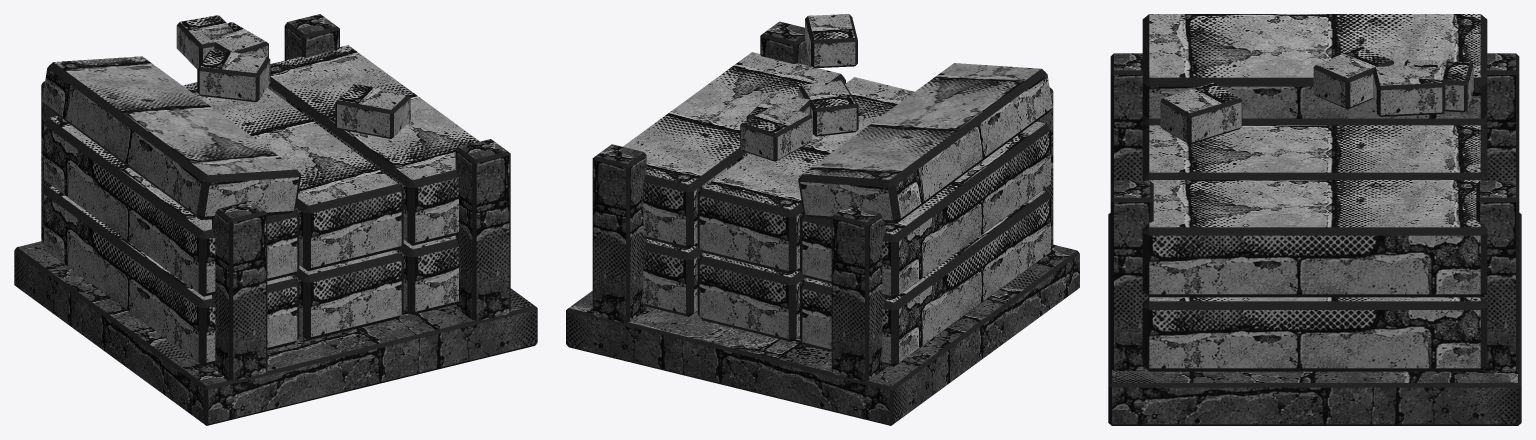
Rendered from wall_damaged.glb.
The picture shows the model from 3 angles, left to right: view 1: azimuth 30°, elevation 25°; view 2: azimuth 150°, elevation 25°; view 3: azimuth 270°, elevation 25°; orthographic projection. The views are drawn at different scales.
Visible parts, largest first — view 1: Plinth.001, Masonry course.015, Masonry course.013, Masonry course.014, Masonry course.012, Masonry course.009, Buttress.005, Buttress.004, Masonry course.010, Masonry course.011, Broken stone.002, Broken stone.003 (+4 smaller); view 2: Plinth.001, Masonry course.015, Masonry course.014, Masonry course.012, Masonry course.009, Masonry course.013, Buttress.007, Buttress.006, Masonry course.010, Masonry course.011, Broken stone, Broken stone.002 (+4 smaller); view 3: Masonry course.014, Masonry course.015, Masonry course.011, Plinth.001, Masonry course.013, Buttress.005, Buttress.007, Buttress.004, Buttress.006, Broken stone.002, Broken stone.001, Broken stone.003 (+2 smaller).
Boxes of the visible parts, bbox=[...] form: Plinth.001: bbox=[14, 241, 537, 425]; Masonry course.015: bbox=[42, 56, 301, 219]; Masonry course.013: bbox=[182, 82, 403, 271]; Masonry course.014: bbox=[267, 45, 479, 245]; Masonry course.012: bbox=[44, 116, 299, 296]; Masonry course.009: bbox=[44, 186, 299, 365]; Buttress.005: bbox=[455, 139, 510, 321]; Buttress.004: bbox=[212, 201, 267, 380]; Masonry course.010: bbox=[291, 250, 403, 340]; Masonry course.011: bbox=[395, 235, 458, 314]; Broken stone.002: bbox=[335, 84, 410, 138]; Broken stone.003: bbox=[197, 50, 270, 102]; Plinth.001: bbox=[566, 244, 1079, 425]; Masonry course.015: bbox=[798, 63, 1052, 223]; Masonry course.014: bbox=[623, 52, 845, 248]; Masonry course.012: bbox=[800, 121, 1050, 298]; Masonry course.009: bbox=[800, 190, 1050, 366]; Masonry course.013: bbox=[697, 77, 914, 273]; Buttress.007: bbox=[592, 144, 646, 323]; Buttress.006: bbox=[831, 205, 885, 381]; Masonry course.010: bbox=[697, 253, 808, 341]; Masonry course.011: bbox=[643, 239, 705, 316]; Broken stone: bbox=[740, 103, 812, 161]; Broken stone.002: bbox=[805, 14, 857, 68]; Masonry course.014: bbox=[1142, 180, 1487, 297]; Masonry course.015: bbox=[1142, 14, 1487, 118]; Masonry course.011: bbox=[1142, 297, 1487, 371]; Plinth.001: bbox=[1108, 213, 1521, 425]; Masonry course.013: bbox=[1142, 125, 1487, 180]; Buttress.005: bbox=[1110, 180, 1153, 370]; Buttress.007: bbox=[1476, 180, 1519, 370]; Buttress.004: bbox=[1110, 53, 1142, 183]; Buttress.006: bbox=[1487, 53, 1519, 183]; Broken stone.002: bbox=[1160, 82, 1242, 144]; Broken stone.001: bbox=[1373, 64, 1445, 116]; Broken stone.003: bbox=[1313, 46, 1393, 109].
Size of the model in its own units: 0.96 by 0.68 by 0.96.
2 materials, 1 textured.
